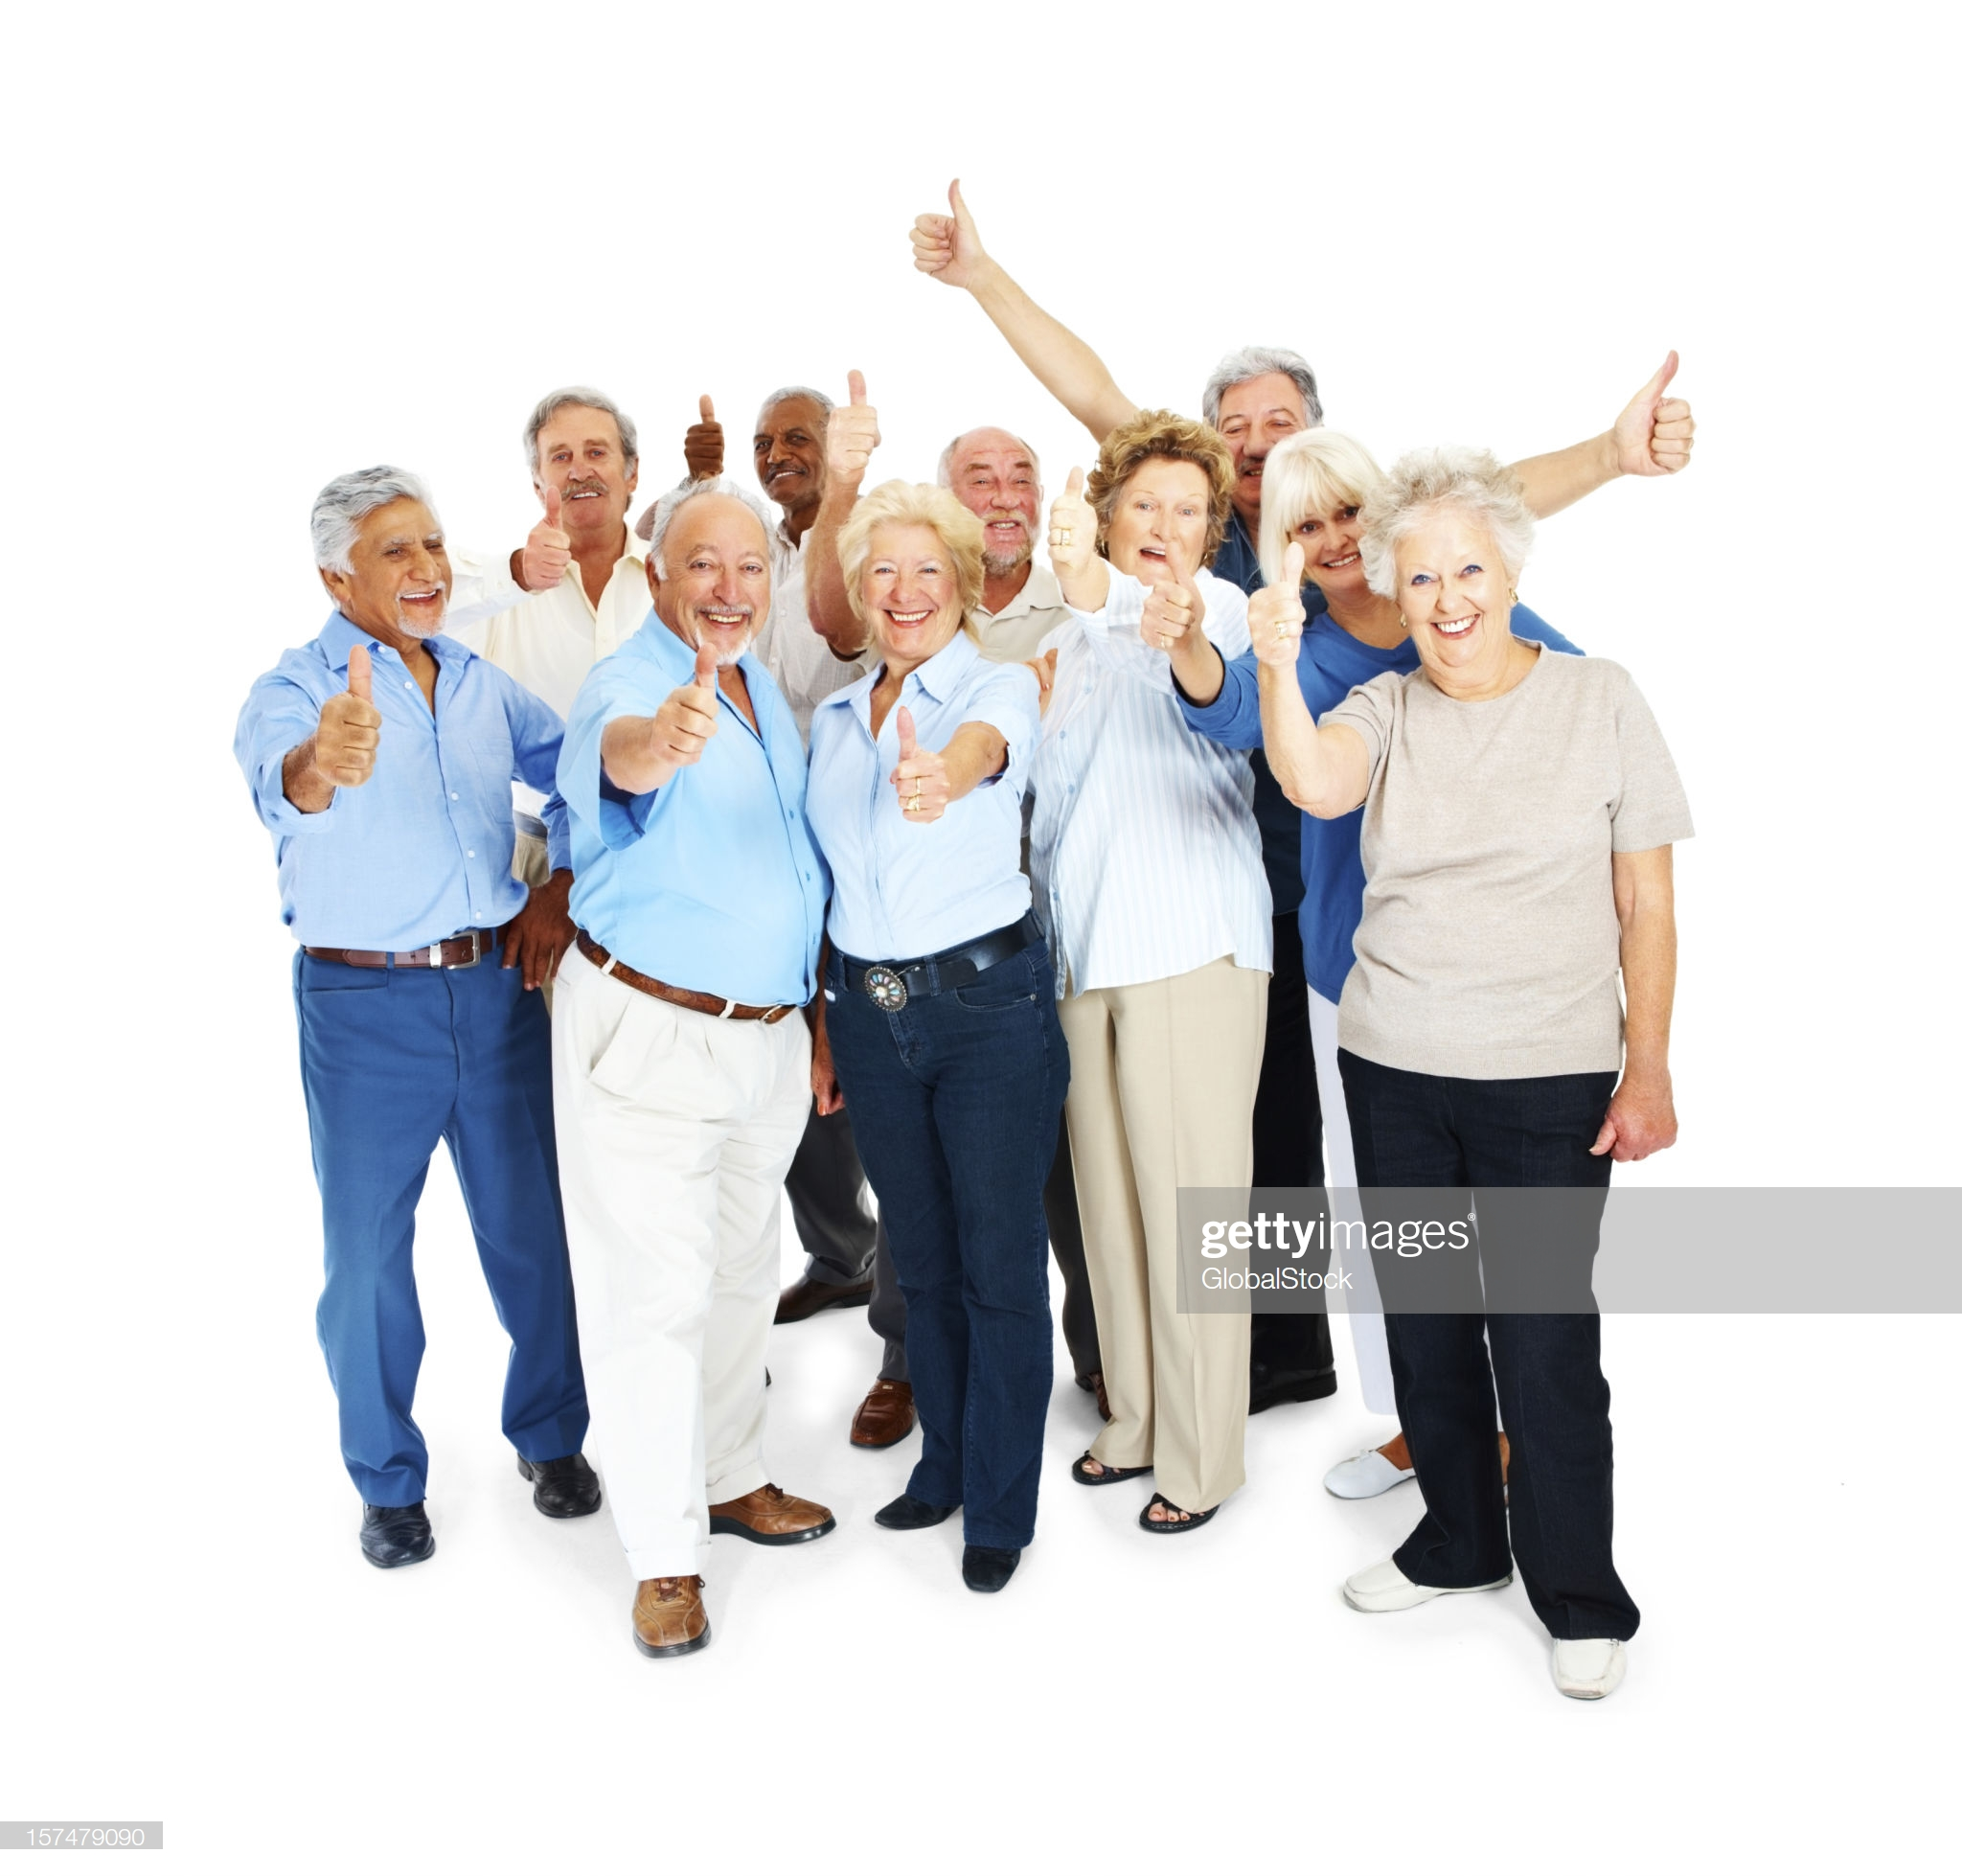thumbsup: (314, 645, 382, 788), (650, 641, 718, 765), (1634, 349, 1697, 476), (1246, 541, 1307, 666), (890, 706, 951, 825), (1139, 541, 1195, 650), (827, 370, 883, 475), (907, 177, 963, 273), (1048, 466, 1098, 566), (522, 485, 569, 590), (683, 394, 723, 475)
